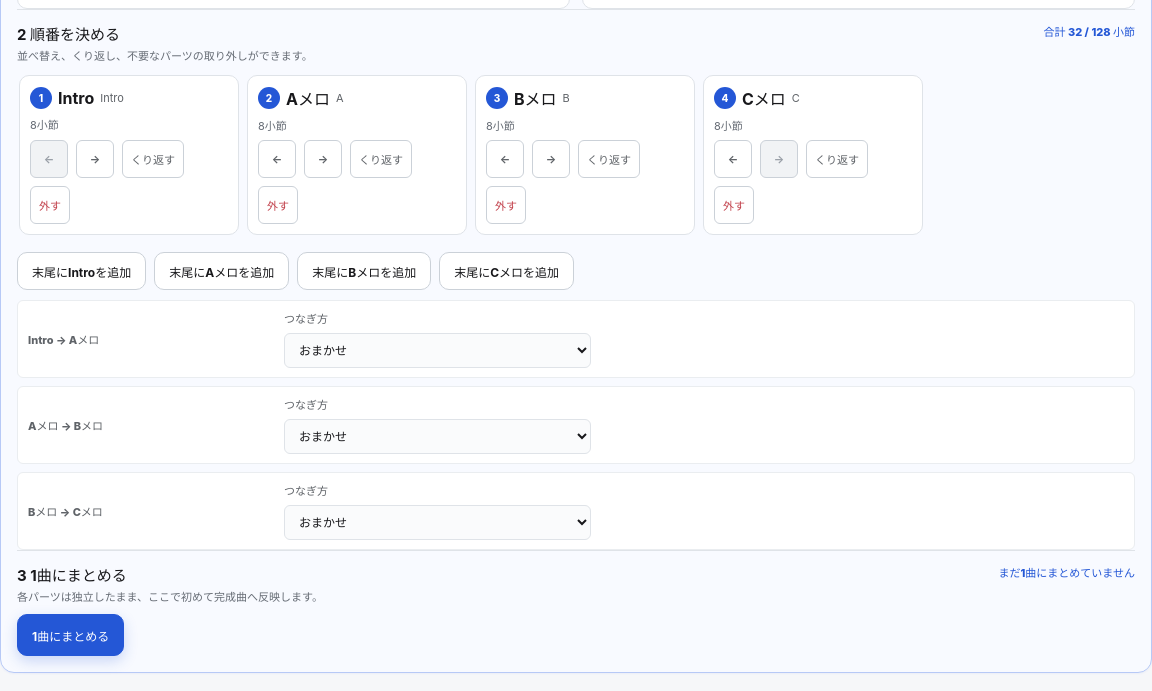
Test: SectionArrangementBuilder › reports assembly success and failure through live feedback
This screenshot has width=1152, height=691.
(page scrolled)
Click the button with class "section-assemble-button": (71, 635) [17,614,124,656]
(page scrolled)
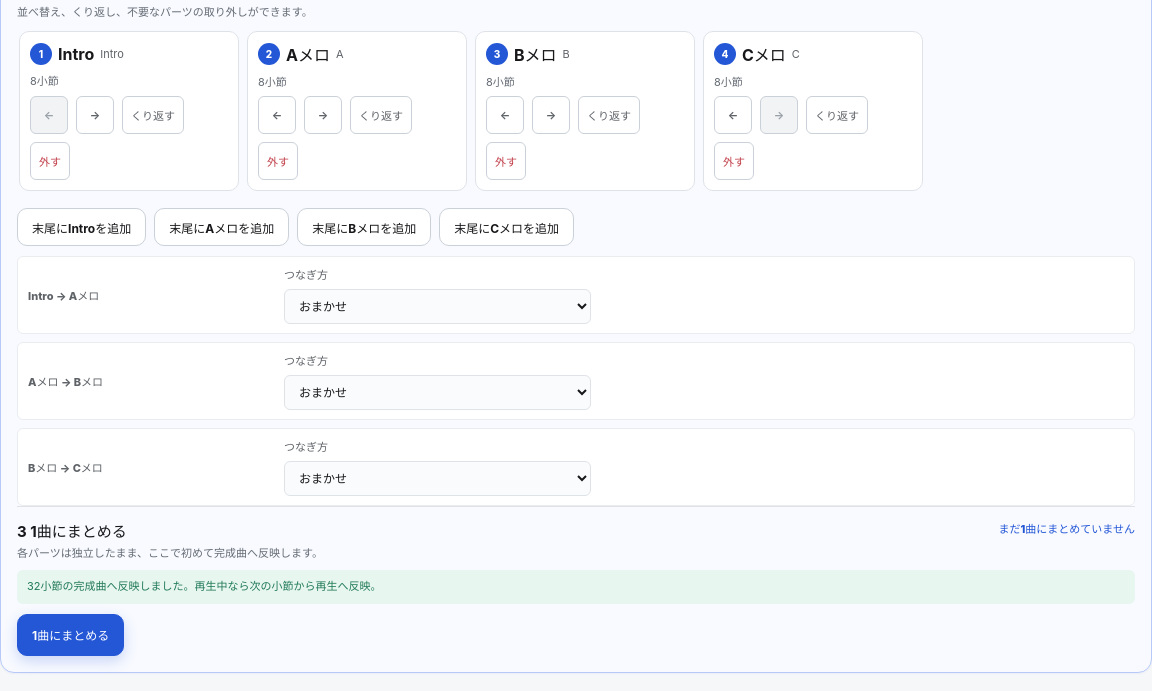
Check: the message with class "section-operation-message" shows "32小節", box [27,579,382,593]
Click the button with class "section-assemble-button": (71, 635) [17,614,124,656]
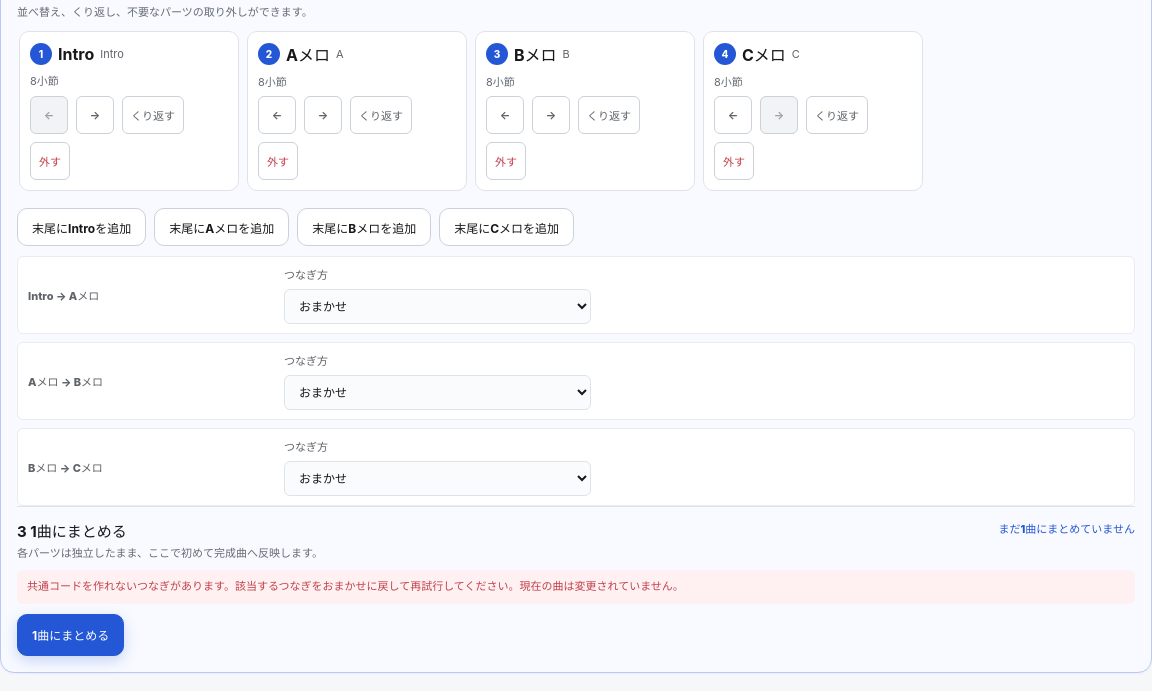
Check: the message "共通コードを作れないつなぎがあります。該当するつなぎをおまかせに戻して再試行してください。現在の曲は変更されていません。" is shown, box [17,570,1135,604]
